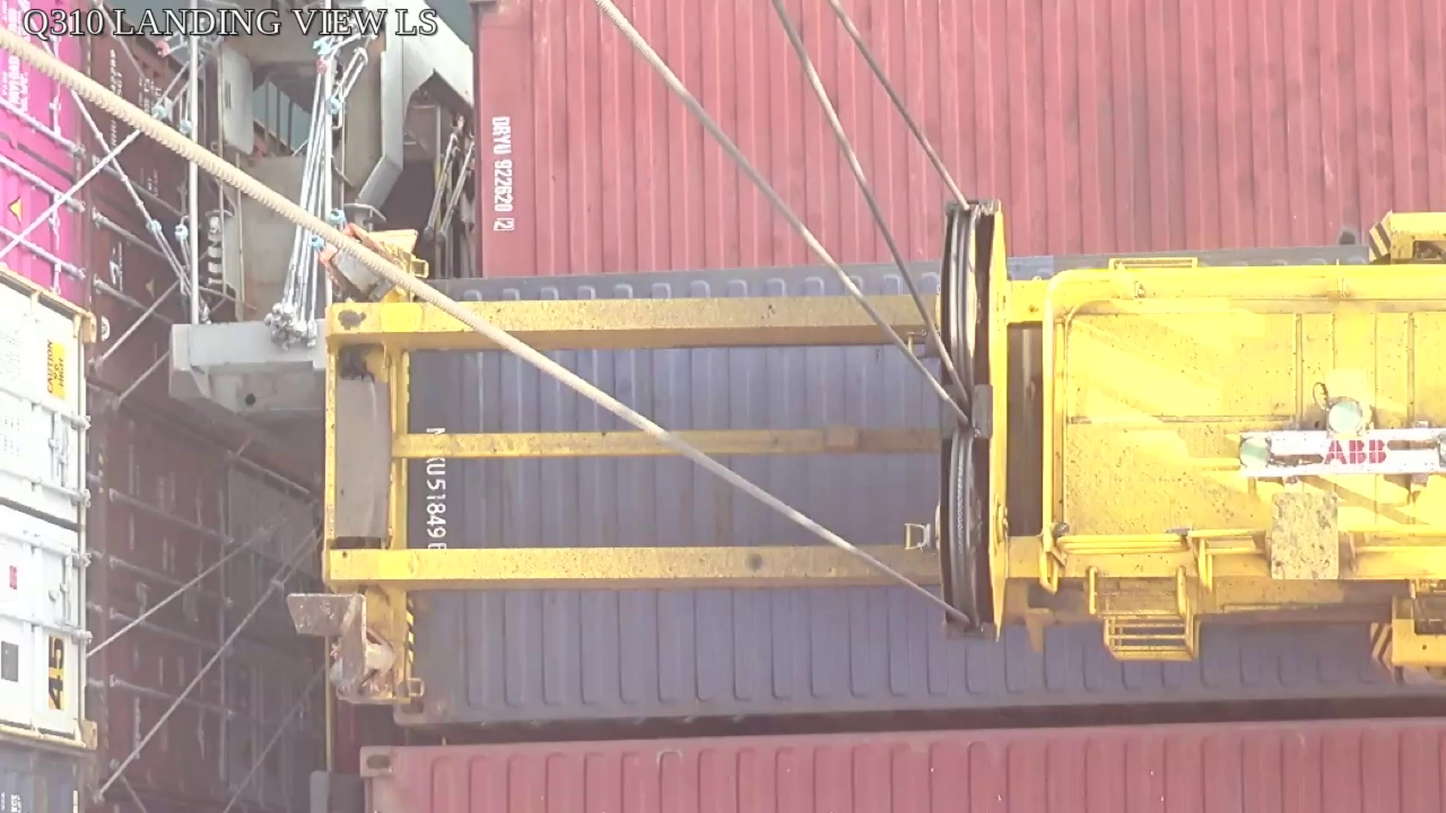aa: (941, 197, 1012, 644)
